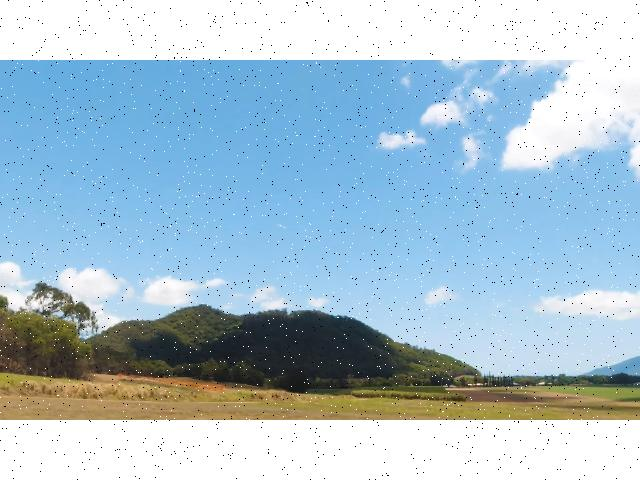Anti-Drone: (272, 220, 298, 232)
